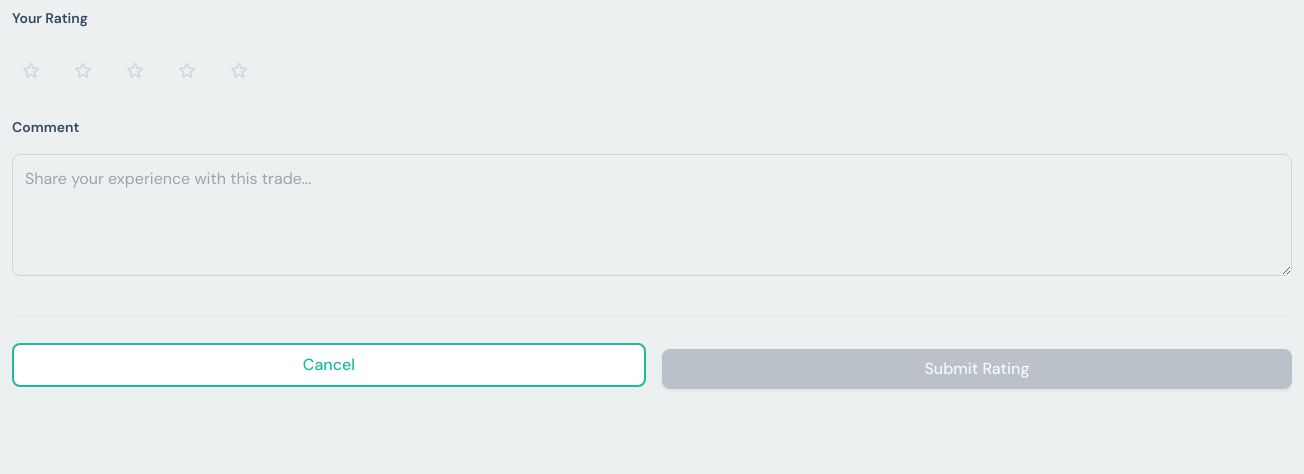
Test case: RatingForm › Star Selection › selects star rating when clicked
The image size is (1304, 474).
Click the button named "rate 3 star": (138, 71) [116,49,160,93]
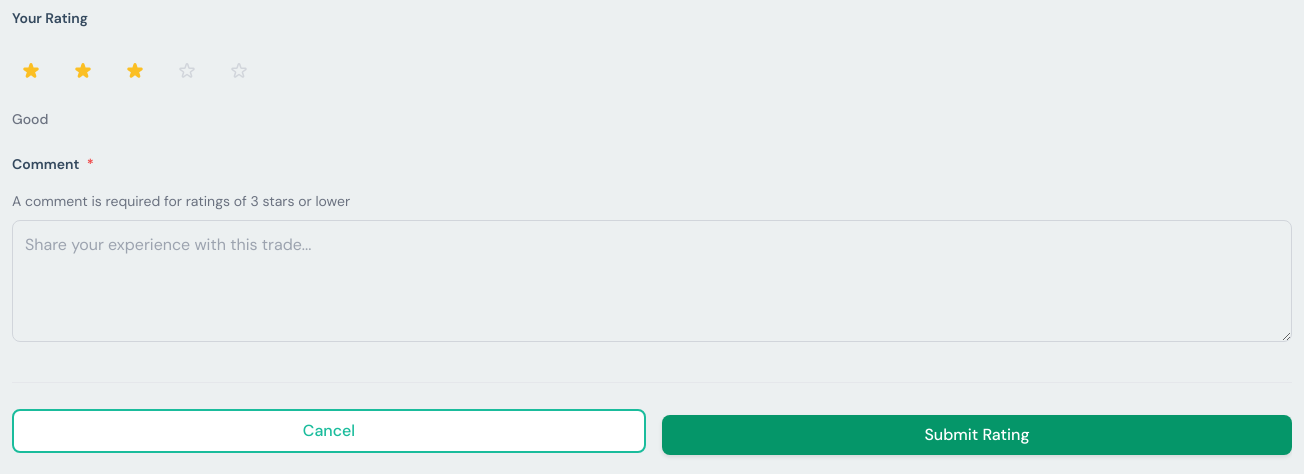
Expected: the text "Good" is shown, [12,110,48,128]
